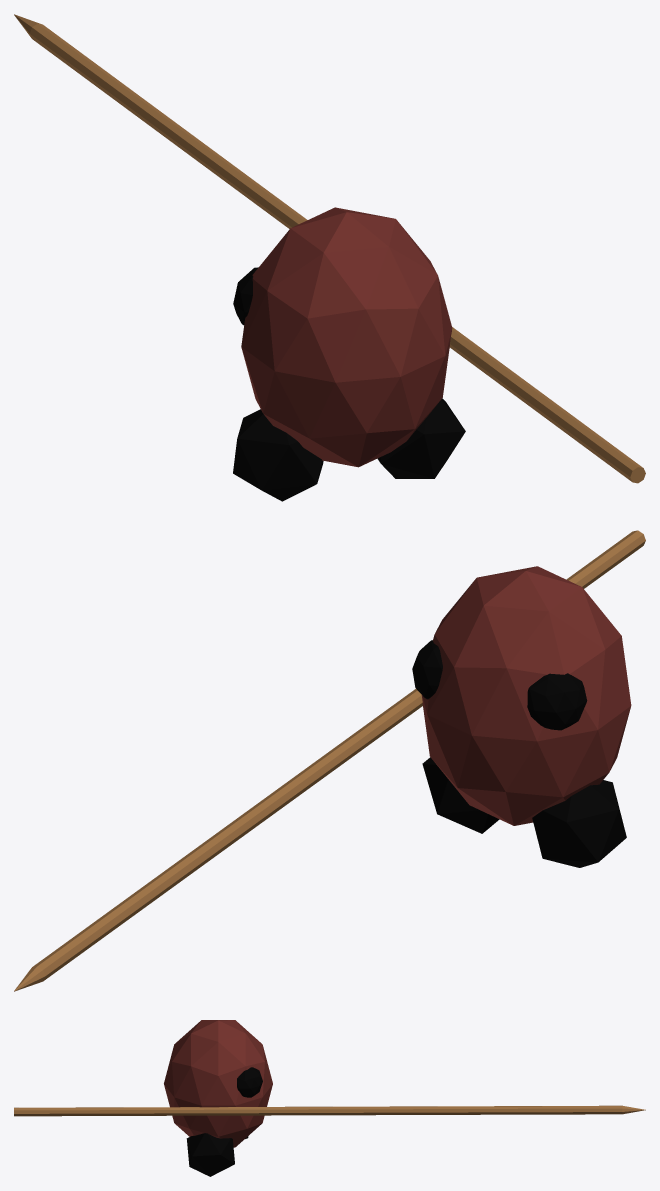
Rendered from walk.f0012.glb.
3 renders of one model, top to bottom at view 1: azimuth 30°, elevation 25°; view 2: azimuth 150°, elevation 25°; view 3: azimuth 270°, elevation 25°, orthographic. The views are drawn at different scales.
Visible parts, largest first — view 1: Body.001; view 2: Body.001; view 3: Body.001.
Part boxes in pixels (<box>): Body.001: <box>14,14,645,501</box>; Body.001: <box>14,530,645,991</box>; Body.001: <box>14,1020,645,1176</box>.
Size of the model in its own units: 2.17 by 2.85 by 11.56.
1 material, 1 textured.
